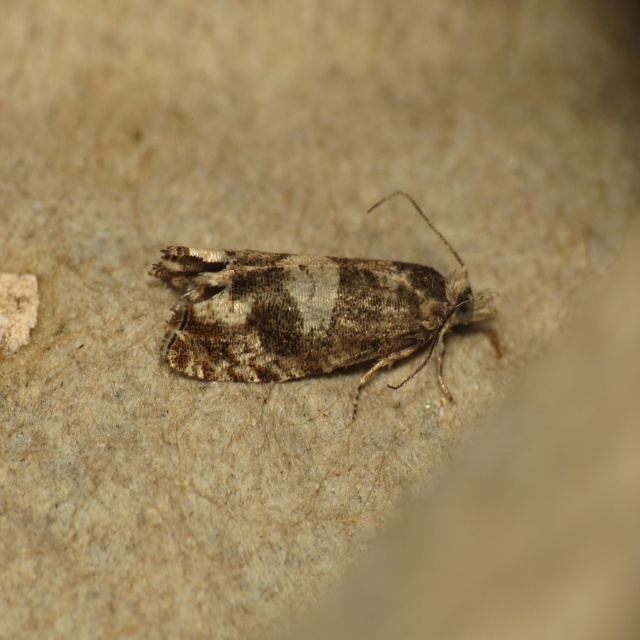Moths and butterflies: (147, 181, 510, 424)
